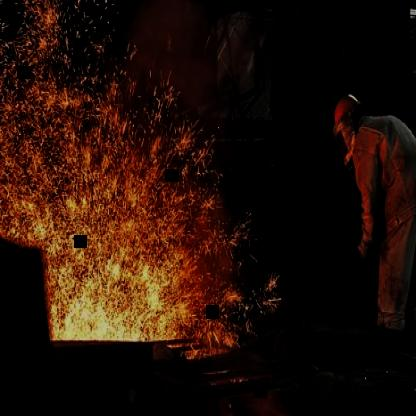helmet: (328, 90, 370, 152)
